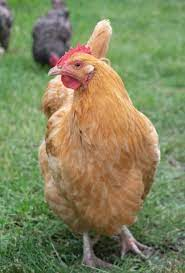buff: (39, 45, 152, 234)
